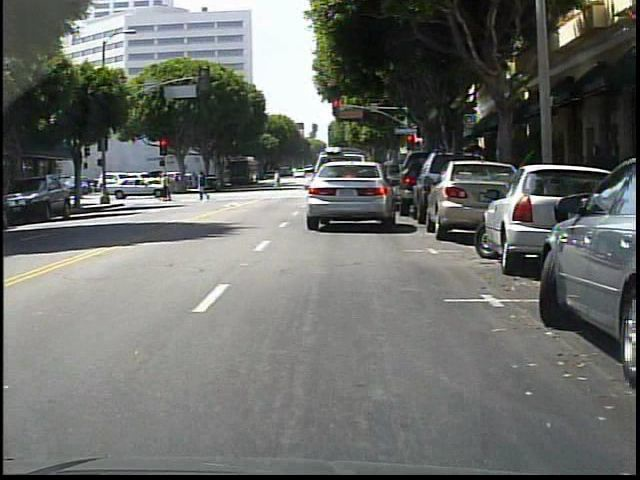person: (160, 174, 175, 203), (197, 171, 212, 200), (272, 169, 281, 191)
